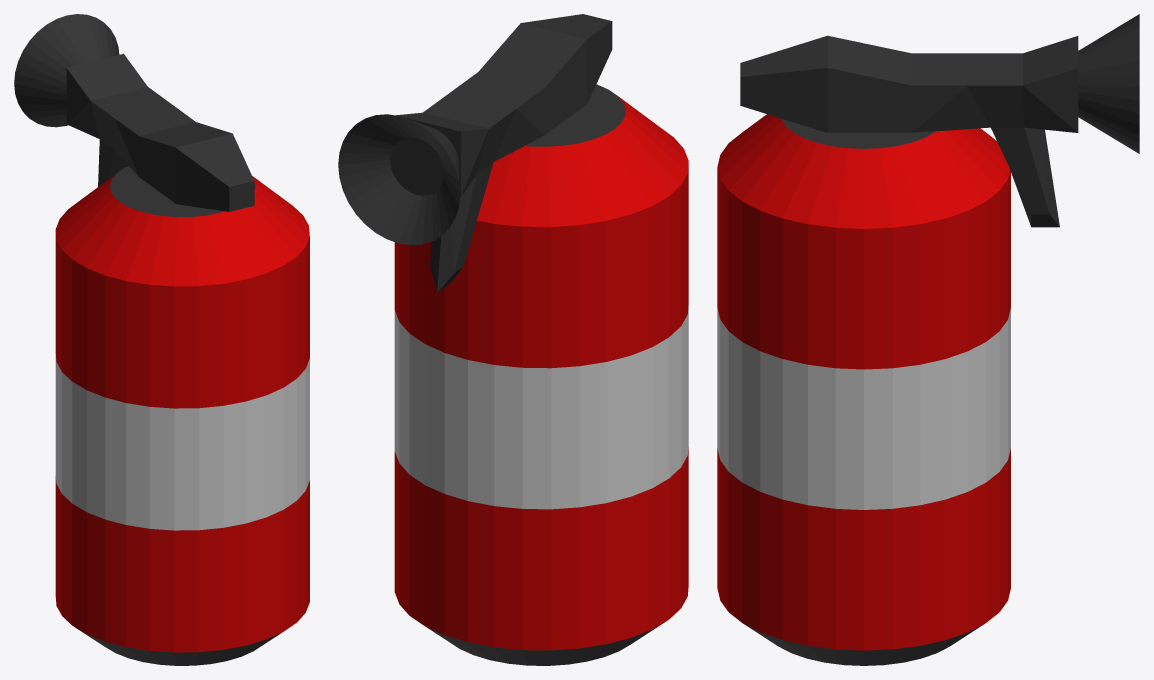
The model's file is gasnica.fbx.
3 renders of one model, left to right at view 1: azimuth 30°, elevation 25°; view 2: azimuth 150°, elevation 25°; view 3: azimuth 270°, elevation 25°, orthographic. The views are drawn at different scales.
Visible parts, largest first — view 1: Cylinder; view 2: Cylinder; view 3: Cylinder.
Part boxes in pixels (bbox=[...]): Cylinder: bbox=[14, 14, 309, 665]; Cylinder: bbox=[338, 14, 688, 665]; Cylinder: bbox=[717, 14, 1139, 665].
Size of the model in its own units: 379 by 861 by 545.
